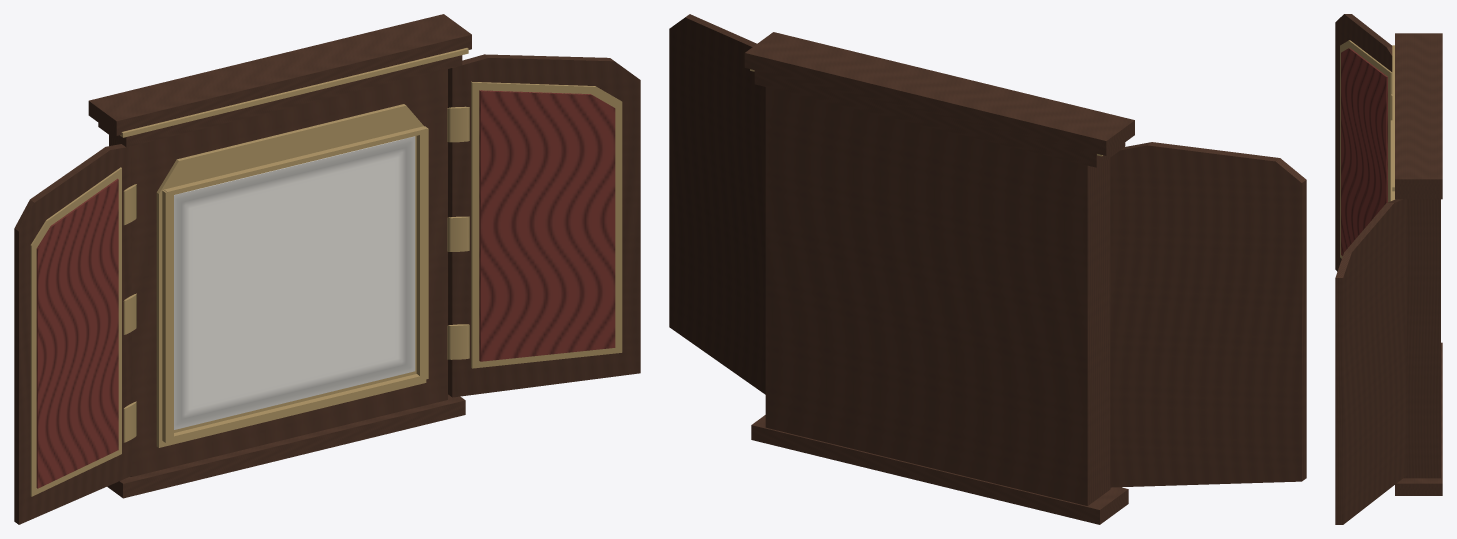
The model's file is s01-collector-triptych-low.glb.
3 views of the same model, side by side, from view 1: azimuth 30°, elevation 25°; view 2: azimuth 150°, elevation 25°; view 3: azimuth 270°, elevation 25° (orthographic). The views are drawn at different scales.
Parts seen in each view (by area): view 1: Picture recess, Right hinged leaf, Case and cornice, Left hinged leaf; view 2: Case and cornice, Left hinged leaf, Right hinged leaf; view 3: Right hinged leaf, Case and cornice, Left hinged leaf, Picture recess.
Part boxes in pixels (box(x1,y1,x2,y2)): Picture recess: box(156, 104, 428, 447); Right hinged leaf: box(447, 54, 640, 397); Case and cornice: box(88, 14, 471, 498); Left hinged leaf: box(14, 144, 136, 524); Case and cornice: box(744, 32, 1134, 524); Left hinged leaf: box(1110, 142, 1306, 487); Right hinged leaf: box(669, 14, 765, 394); Right hinged leaf: box(1335, 199, 1406, 524); Case and cornice: box(1392, 33, 1442, 495); Left hinged leaf: box(1335, 14, 1392, 271); Picture recess: box(1390, 120, 1394, 200).
Size of the model in its own units: 3.95 by 2.3 by 0.7.
Materials: 1 (1 with a texture image).
